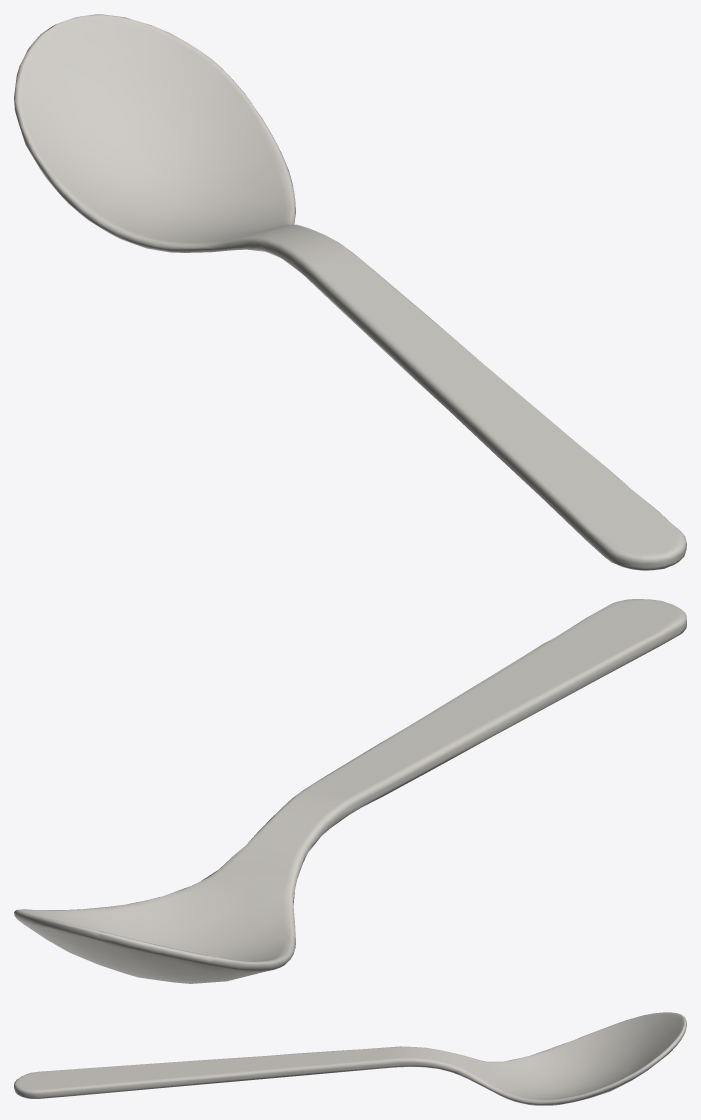
The model's file is Fornuft80428475.glb.
The picture shows the model from 3 angles, top to bottom: view 1: azimuth 30°, elevation 25°; view 2: azimuth 150°, elevation 25°; view 3: azimuth 270°, elevation 25°; orthographic projection. The views are drawn at different scales.
Parts seen in each view (by area): view 1: model; view 2: model; view 3: model.
Part boxes in pixels (x1=…): model: x1=14, y1=14, x2=686, y2=570; model: x1=14, y1=599, x2=686, y2=983; model: x1=14, y1=1012, x2=686, y2=1105.
Size of the model in its own units: 0.0308 by 0.0165 by 0.1445.
Materials: 1 (1 with a texture image).
